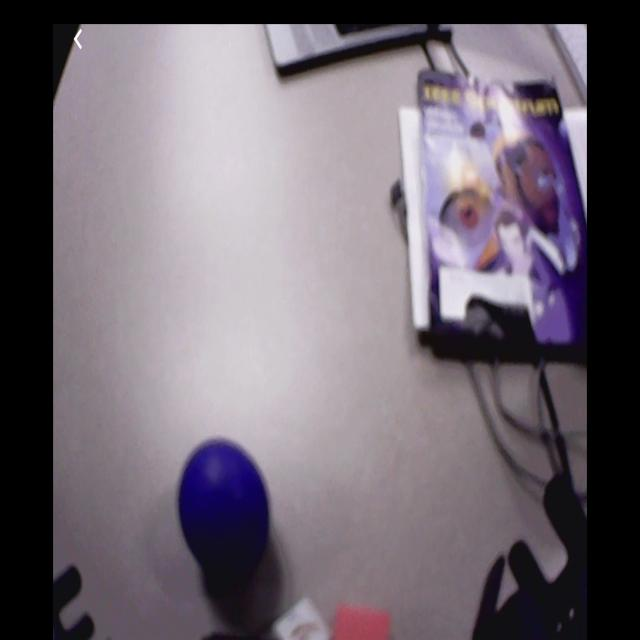ball: (180, 440, 270, 582)
